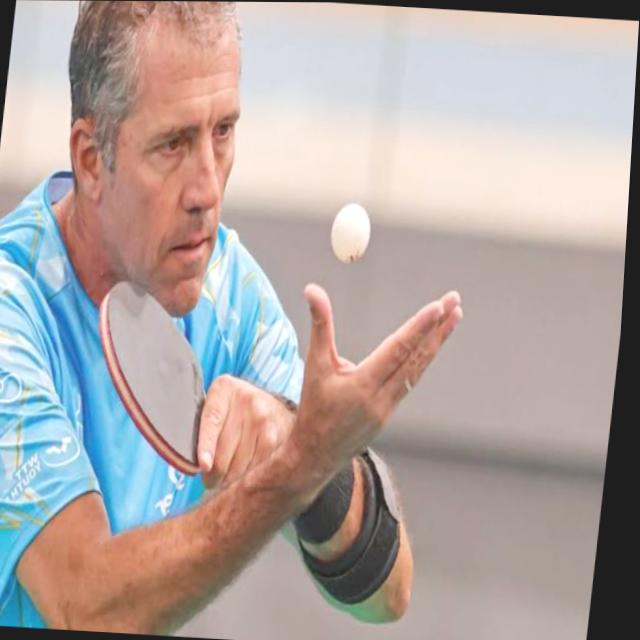TT Racket: (74, 240, 216, 489)
